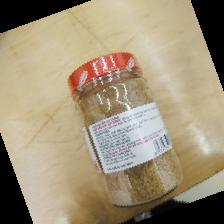Hao_hao: (66, 52, 184, 210)
